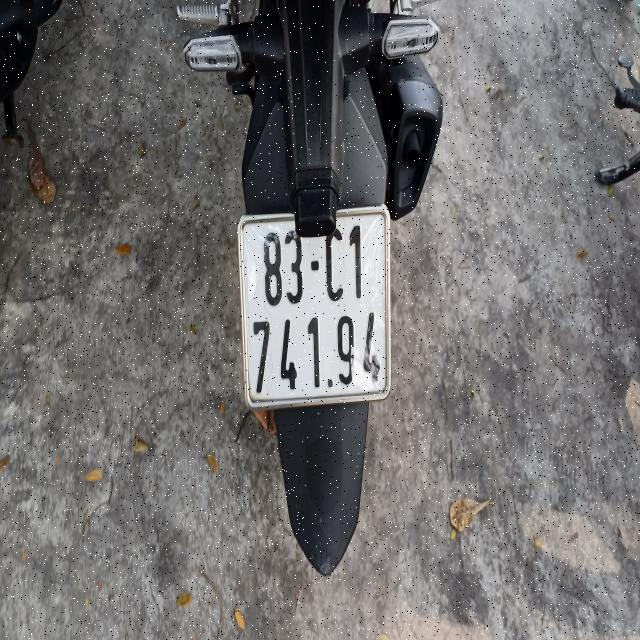1: (305, 314, 325, 394), (349, 222, 364, 299)
3: (285, 228, 303, 306)
4: (361, 309, 381, 390), (280, 314, 299, 394)
7: (252, 316, 272, 395)
8: (262, 231, 282, 310)
9: (336, 314, 354, 388)
C: (324, 228, 347, 302)
